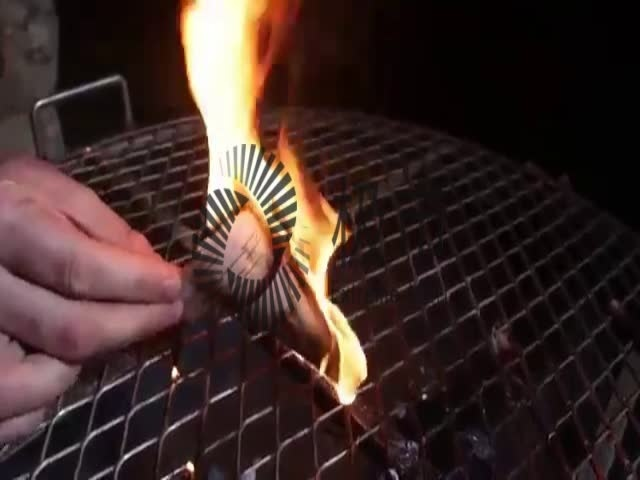fire: (176, 0, 364, 390)
